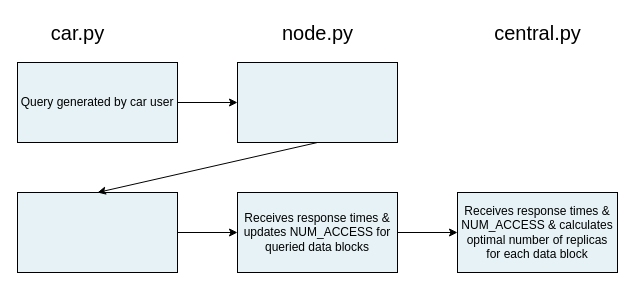
Some shapes in this 635 by 290 pixel diagram are drawn without their labels. Each missing label, with the centre of its shape:
"Calculates response time of query and sends it to edge node" belongs at point 97,232.
"Query processed and response sent back" belongs at point 317,102.
